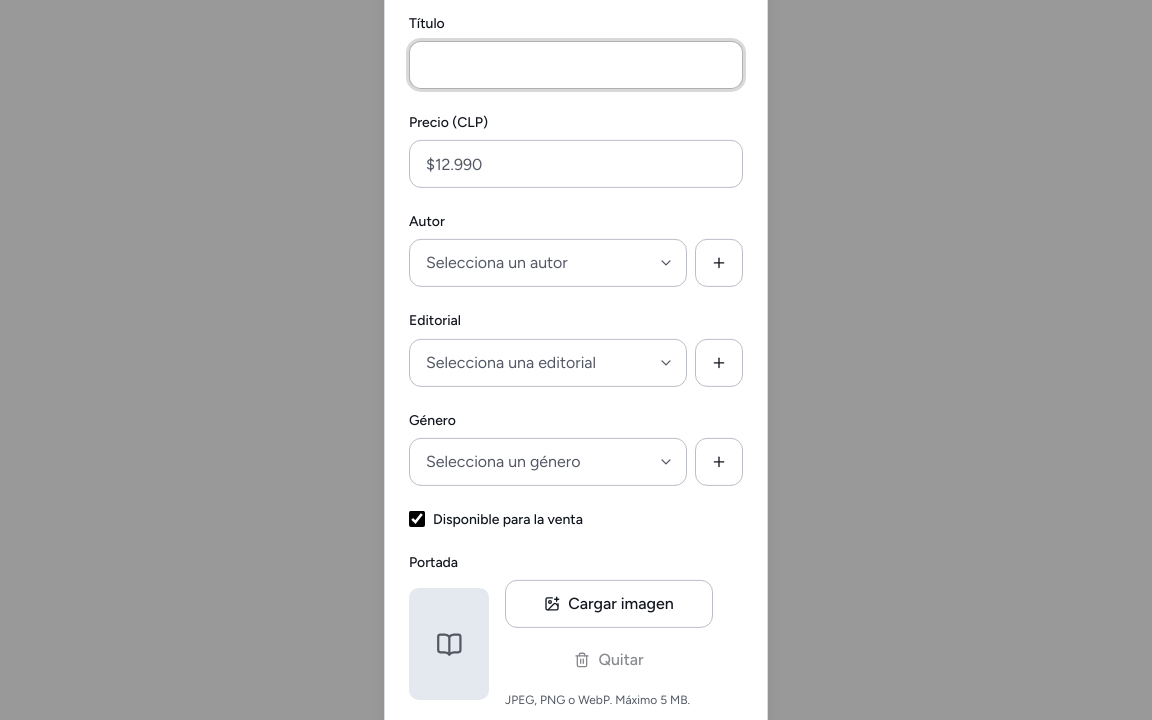
Scenario: BookFormPanel › alta de un autor desde el formulario › si la API lo rechaza (por ejemplo, ya existe) lo muestra y no cierra
Step 1. Click the button named "Agregar autor" → click(719, 263), box [695, 239, 743, 287]
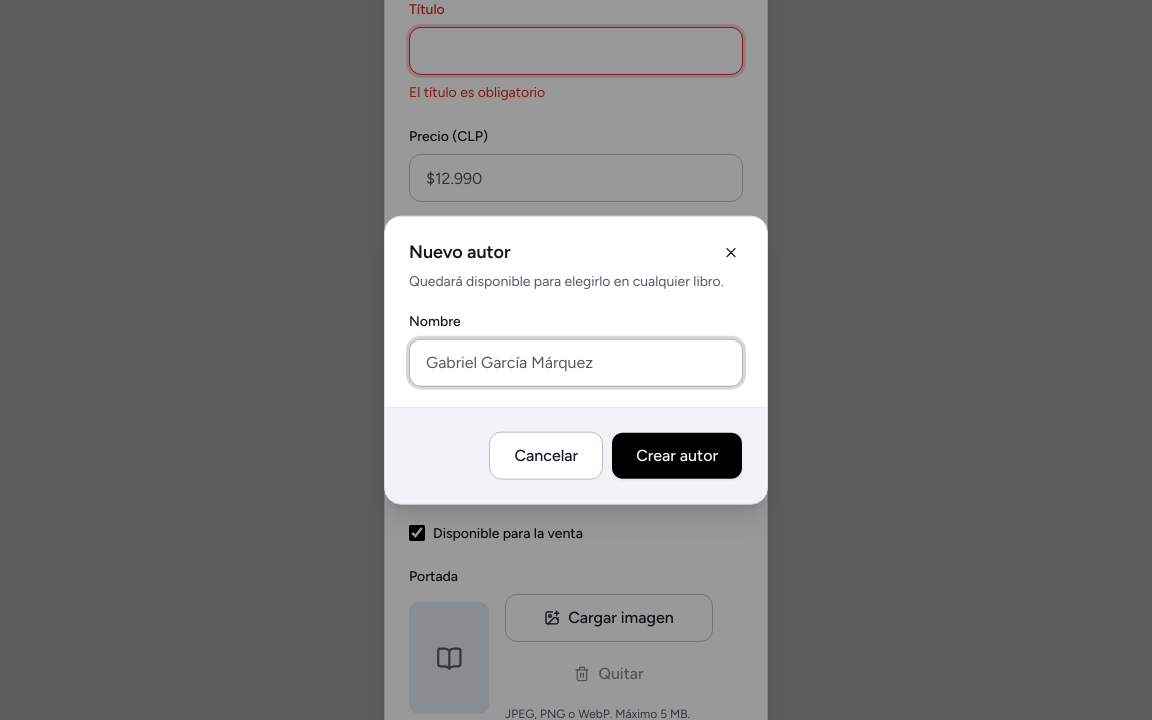
Step 2. Type "Cortázar" into the field labelled "Nombre" → (576, 362), box [409, 338, 743, 386]
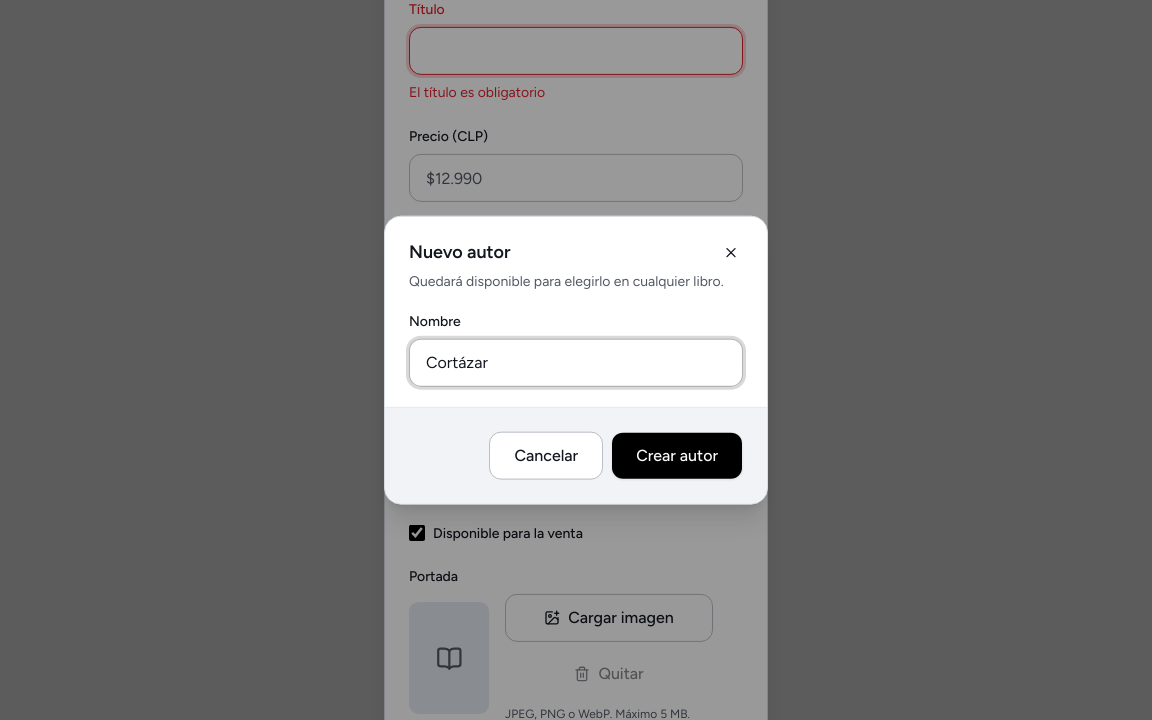
Step 3. Click the button "Crear autor" → click(677, 455), box [611, 431, 743, 479]
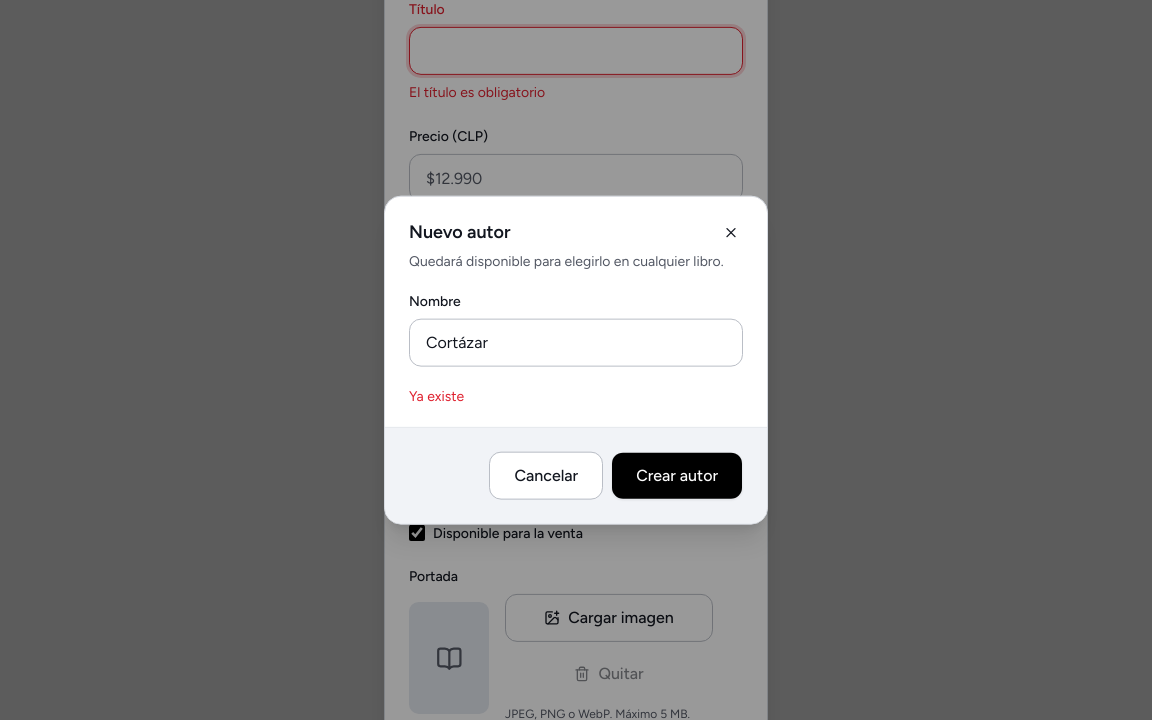
Expected: the dialog "Nuevo autor" is shown, [384, 196, 768, 524]
Expected: the message reads "Ya existe", [409, 387, 464, 404]
